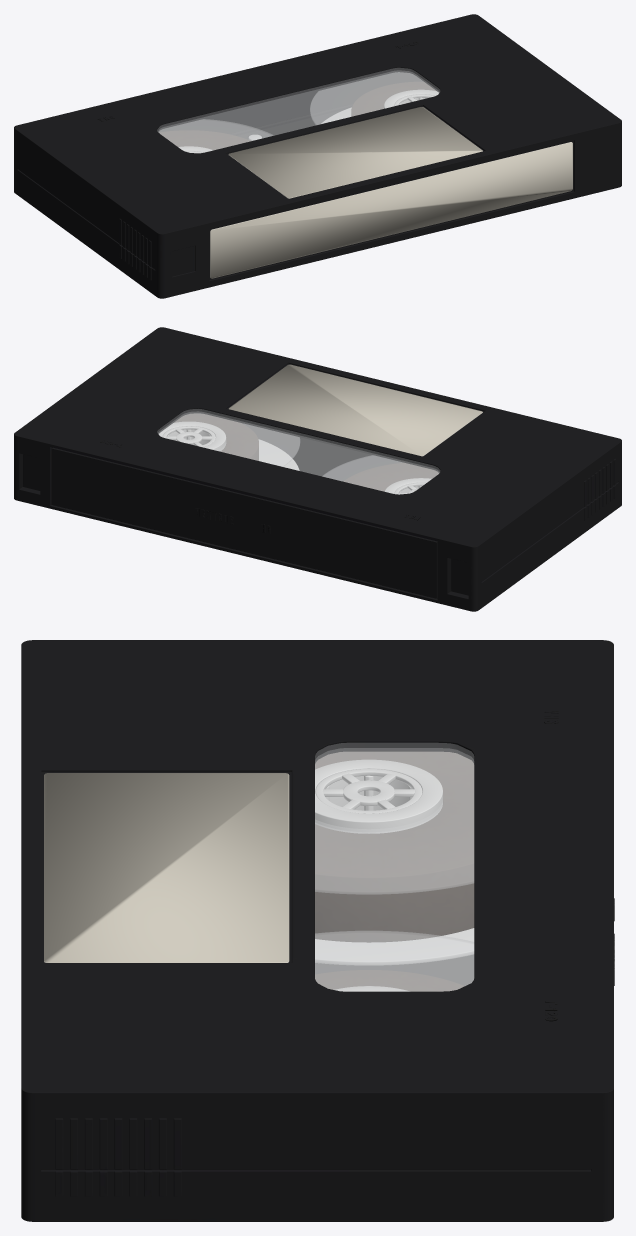
File: vhs_cassette.glb
3 views of the same model, one above another, from view 1: azimuth 30°, elevation 25°; view 2: azimuth 150°, elevation 25°; view 3: azimuth 270°, elevation 25° (orthographic). The views are drawn at different scales.
Parts seen in each view (by area): view 1: vhs_cassette; view 2: vhs_cassette; view 3: vhs_cassette.
Boxes of the visible parts, x1=… form: vhs_cassette: x1=14, y1=14, x2=621, y2=298; vhs_cassette: x1=14, y1=327, x2=621, y2=611; vhs_cassette: x1=21, y1=640, x2=614, y2=1221.
Bounding box in the file's own units: 0.1886 × 0.0251 × 0.1041.
11 materials, 9 textured.
